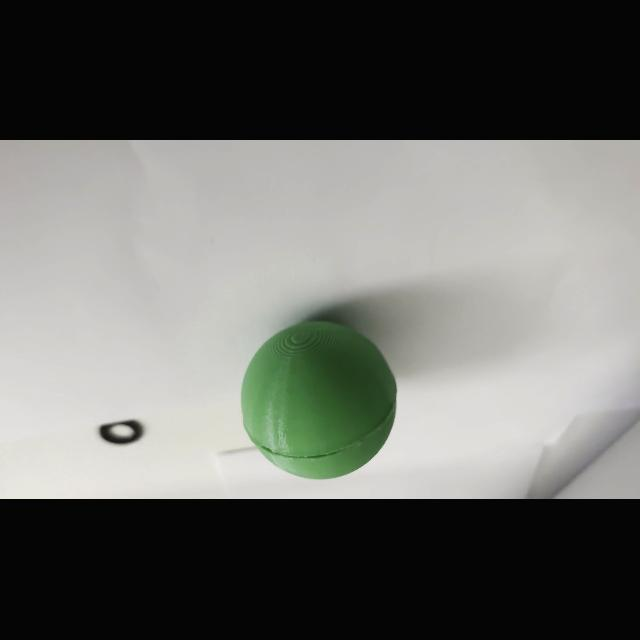objects: (236, 314, 400, 490)
